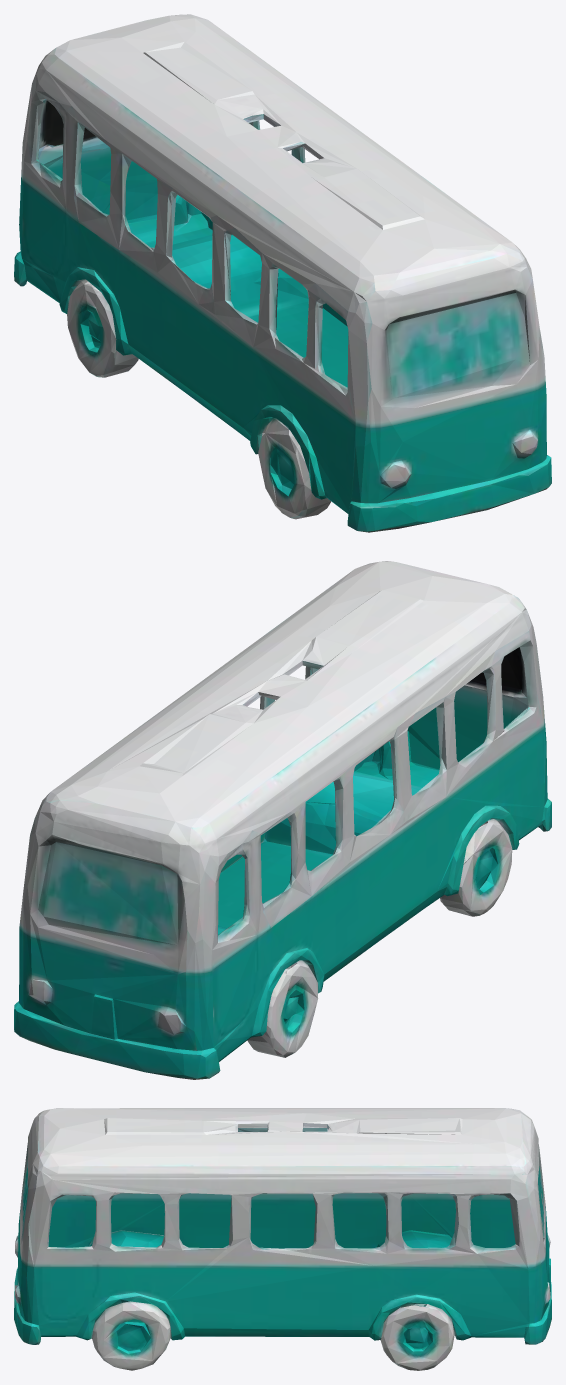
Rendered from car-bus.glb.
3 renders of one model, top to bottom at view 1: azimuth 30°, elevation 25°; view 2: azimuth 150°, elevation 25°; view 3: azimuth 270°, elevation 25°, orthographic. The views are drawn at different scales.
Parts seen in each view (by area): view 1: geometry_0; view 2: geometry_0; view 3: geometry_0.
Boxes of the visible parts, x1,y1,x2,y2 form: geometry_0: (14,14,551,532); geometry_0: (14,561,551,1079); geometry_0: (14,1108,551,1370).
Bounding box in the file's own units: 0.3325 × 0.4302 × 0.9977.
Materials: 1 (1 with a texture image).
